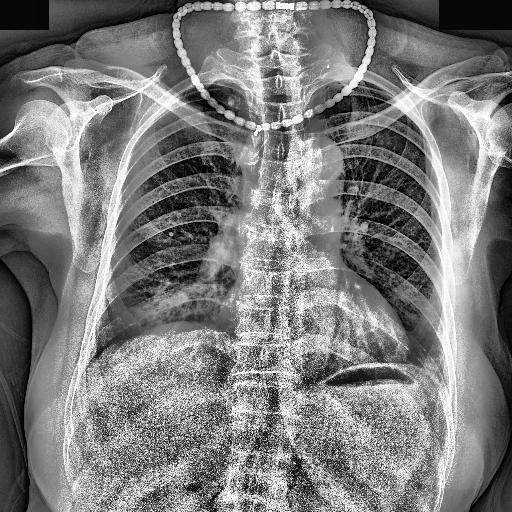0- Aortic enlargement: (288, 134, 344, 200), (298, 136, 346, 190), (306, 135, 344, 180)
3- Cardiomegaly: (214, 294, 408, 365), (213, 299, 410, 366)
8- Nodule-Mass: (228, 96, 236, 108)
